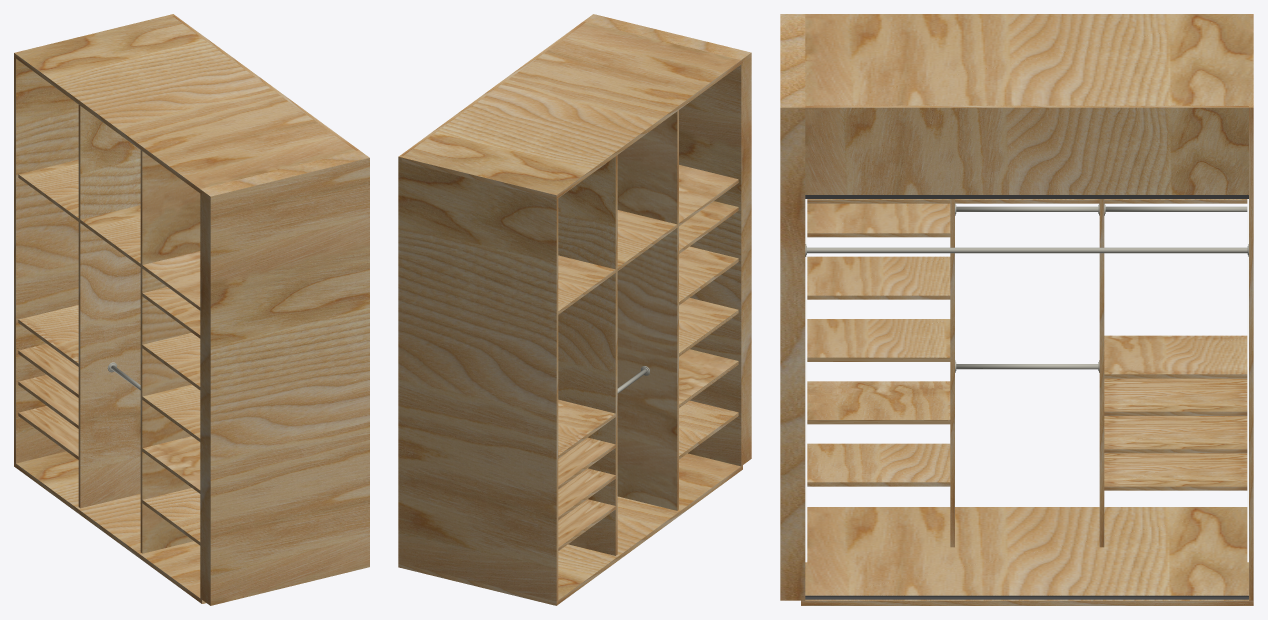
File: bedroom_wardrobe.gltf
3 renders of one model, left to right at view 1: azimuth 30°, elevation 25°; view 2: azimuth 150°, elevation 25°; view 3: azimuth 270°, elevation 25°, orthographic. The views are drawn at different scales.
Visible parts, largest first — view 1: BedroomWardrobe; view 2: BedroomWardrobe; view 3: BedroomWardrobe.
Part boxes in pixels (x1,y1,x2,y2): BedroomWardrobe: (14,14,369,605); BedroomWardrobe: (398,14,751,605); BedroomWardrobe: (780,14,1253,605).
Bounding box in the file's own units: 1.21 × 3 × 2.58.
4 materials, 1 textured.
